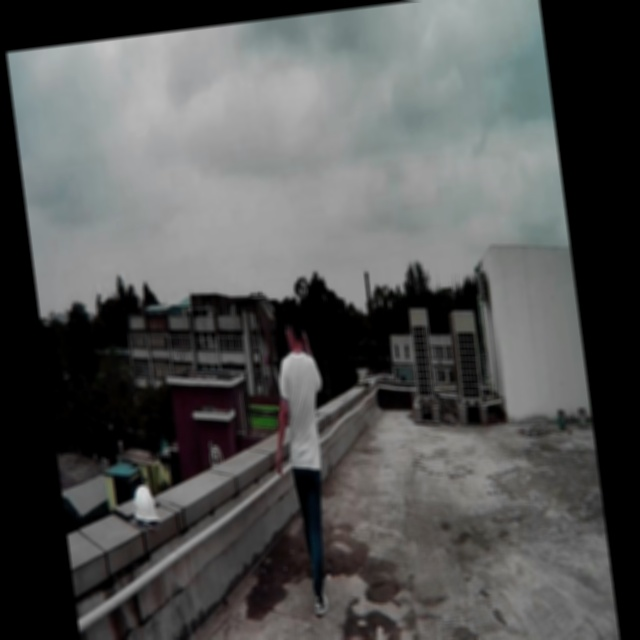Sin_Chaleco: (275, 351, 327, 474)
